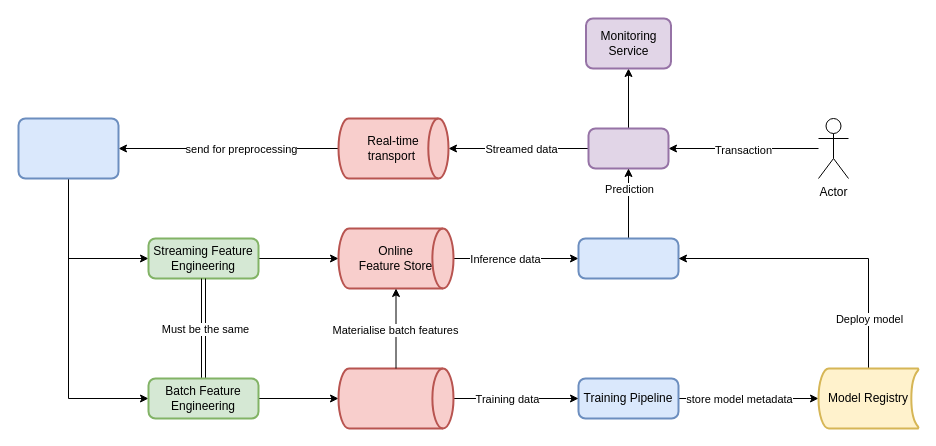
Image size: 936x446. Some labels were removed from this diagram. The centre of each missing label's shape, as x and y in pixels:
App: (628,148)
Data PIpeline: (68,148)
Inference Pipeline: (628,258)
Offline Feature Store: (395,398)
